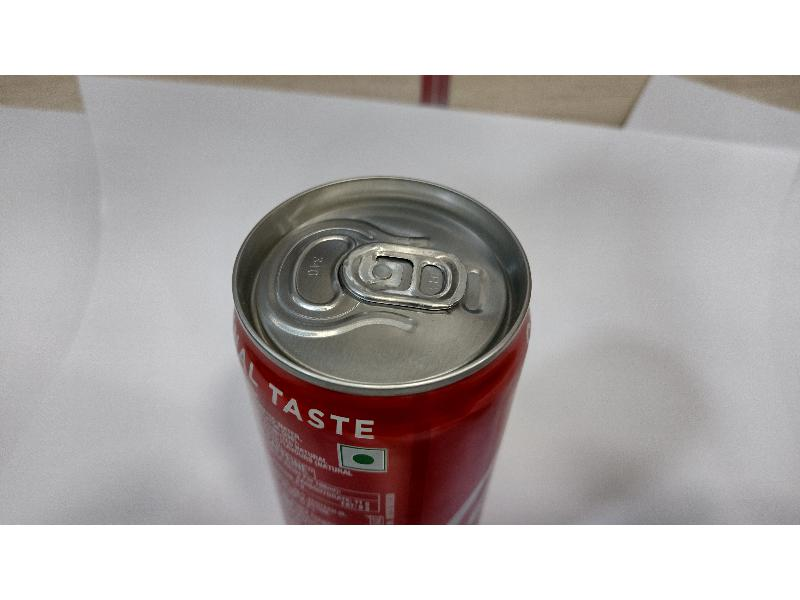can: (226, 172, 532, 521)
